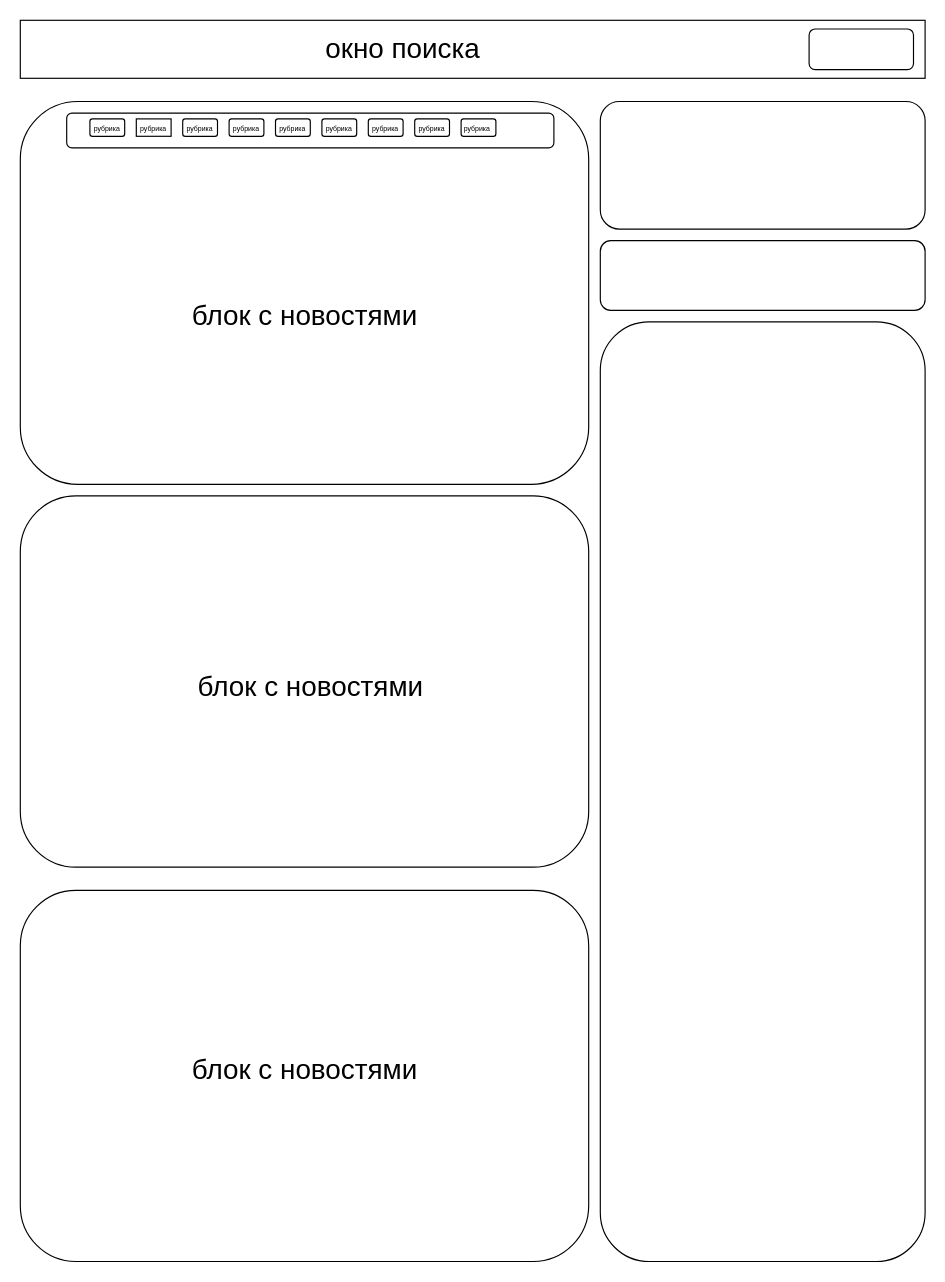
This 945x1282 diagram has some shape labels left out. The shapes that lost their labels are listed below. From the top down, each one's centre as x and y in pixels, then its label:
(860,49): кнопка "НАЙТИ"
(762,164): виджет с погодой
(762,275): курс валют
(762,791): Медиа
